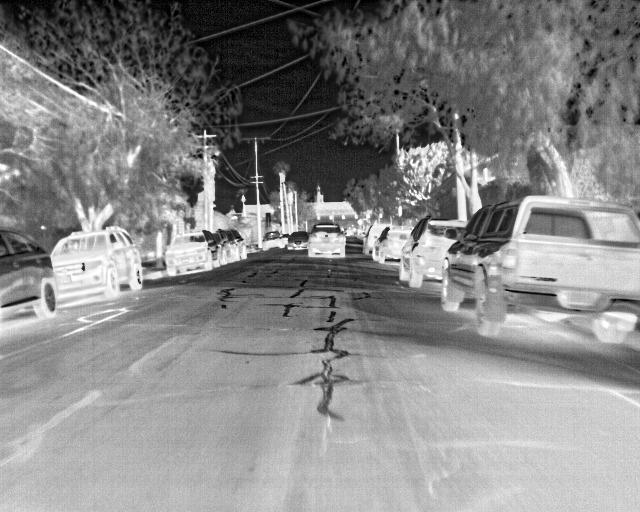car: (439, 193, 639, 347), (49, 222, 144, 301), (399, 212, 471, 287), (0, 227, 55, 320), (165, 232, 214, 274), (371, 226, 413, 261), (309, 224, 345, 258), (211, 229, 232, 262), (226, 229, 246, 259), (364, 226, 386, 252), (261, 229, 284, 250), (286, 229, 308, 250)
